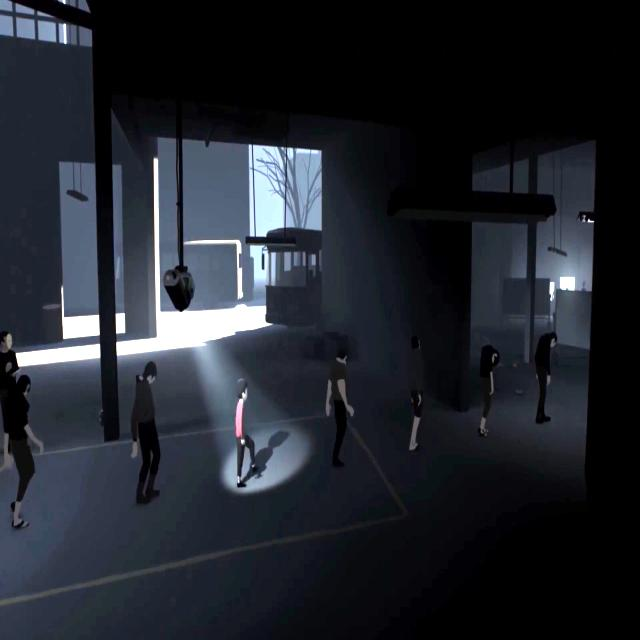boy: (235, 380, 258, 489)
human: (0, 330, 18, 390)
zombie: (1, 373, 40, 532), (132, 364, 161, 505), (326, 348, 354, 468), (536, 331, 558, 423), (478, 344, 499, 437), (408, 337, 424, 452)
